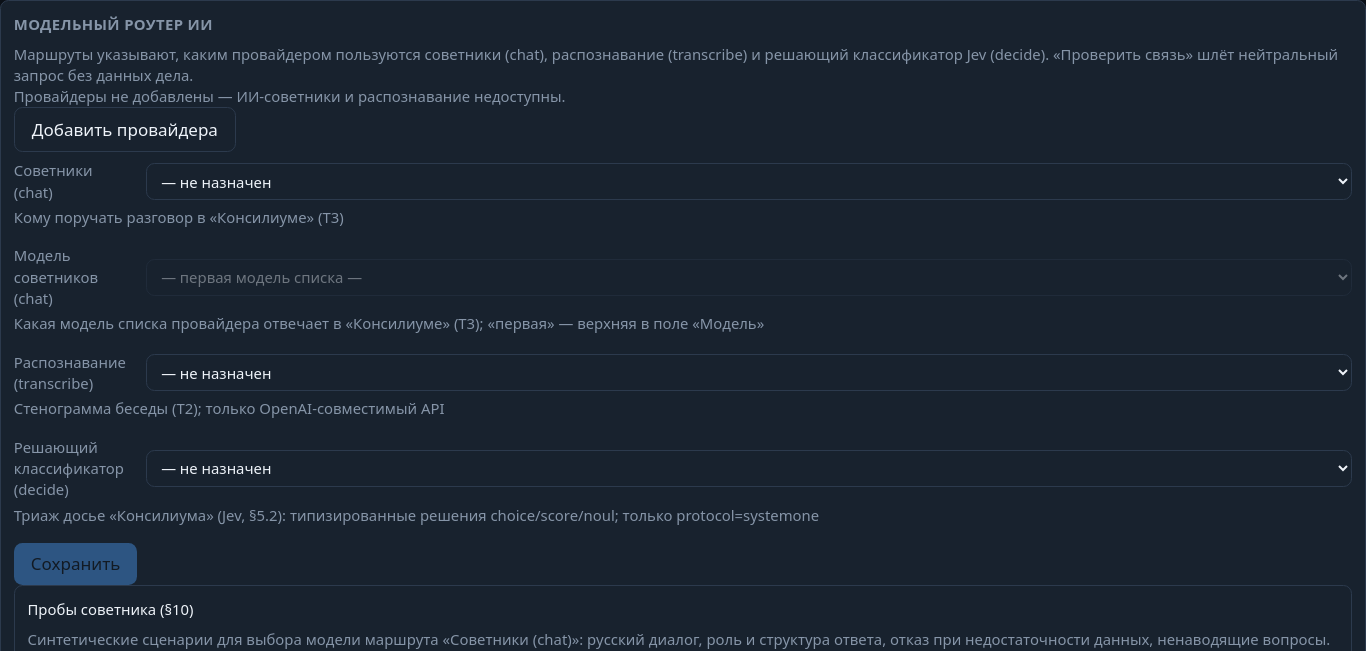
Test: панель «Модельный роутер ИИ» › новый провайдер: проба недоступна до сохранения
Expected: the text "Провайдеры не добавлены — ИИ-советники и распознавание недоступны." is shown, [14,86,566,106]
Click the button "Добавить провайдера": point(125, 130) [14,107,236,152]
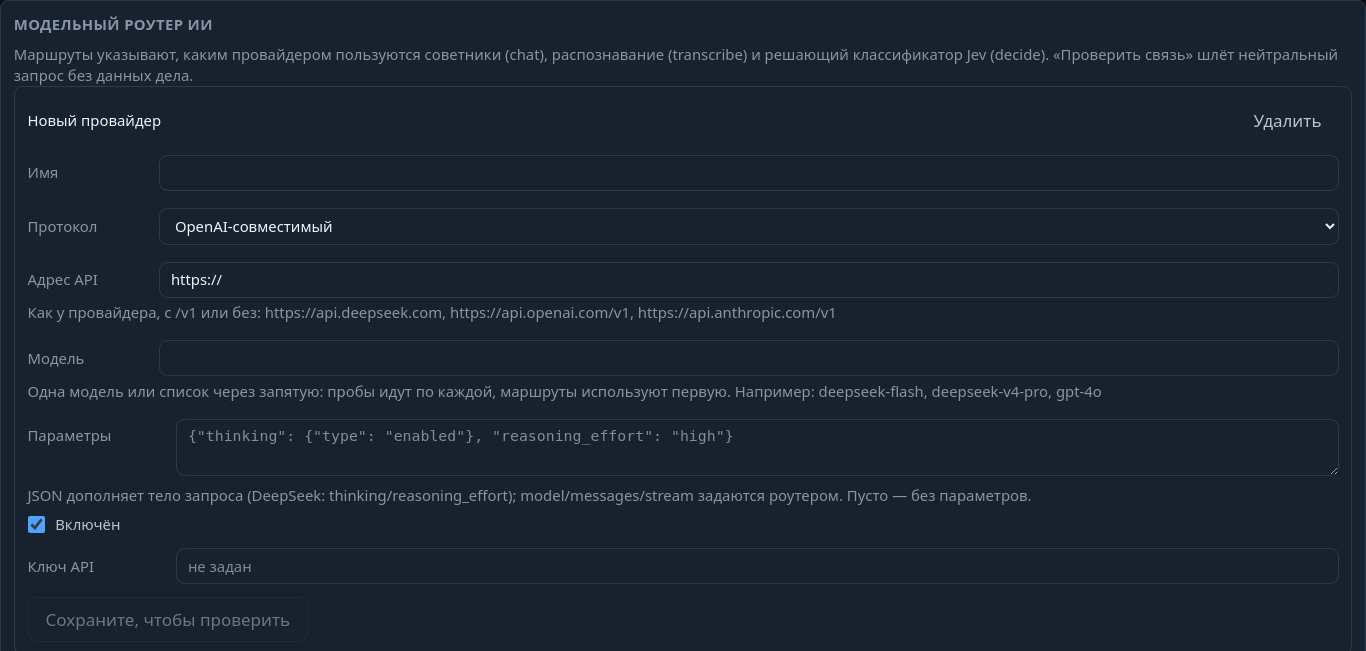
Expected: the text "Новый провайдер" is shown, [28,110,161,132]
Expected: the button "Сохраните, чтобы проверить" is disabled, [28,597,308,642]
